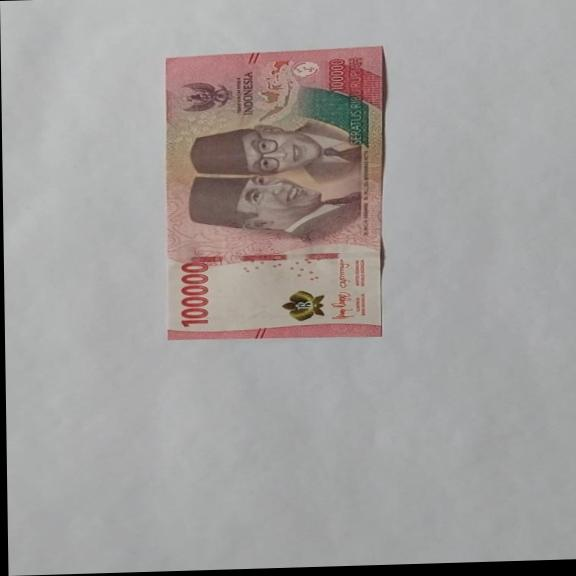Kertas: (160, 46, 389, 342), (176, 260, 211, 327)
